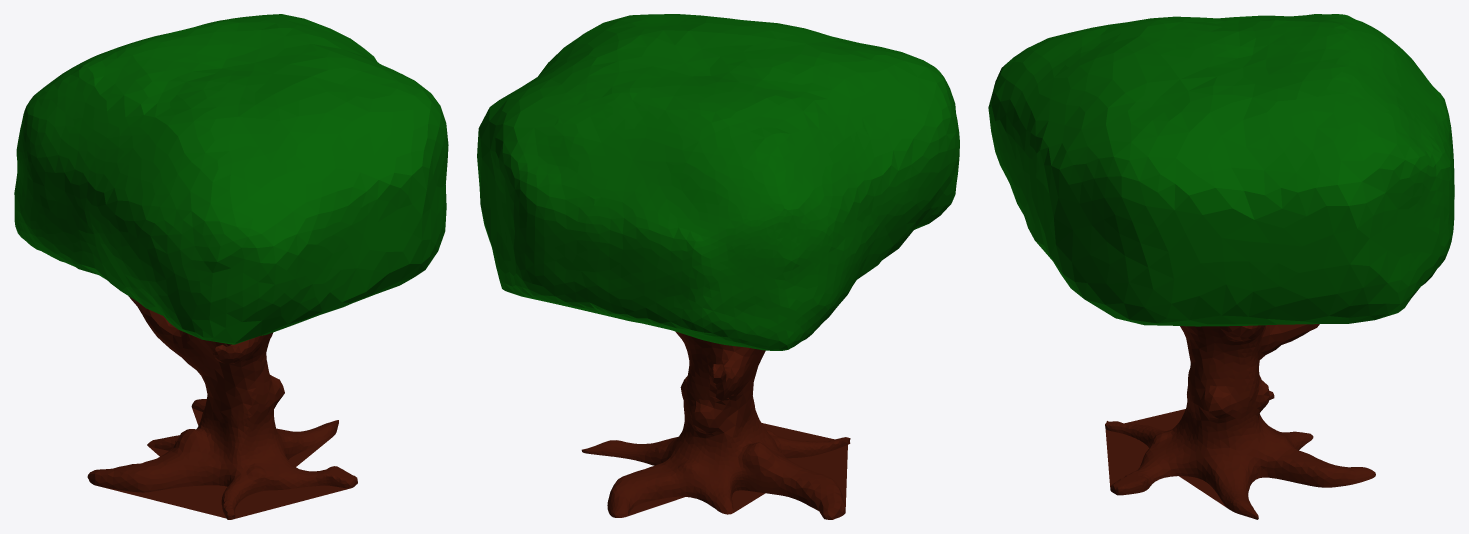
File: tree.obj
3 renders of one model, left to right at view 1: azimuth 30°, elevation 25°; view 2: azimuth 150°, elevation 25°; view 3: azimuth 270°, elevation 25°, orthographic. The views are drawn at different scales.
Visible parts, largest first — view 1: feuillage_Cube, tronc_Cube.001; view 2: feuillage_Cube, tronc_Cube.001; view 3: feuillage_Cube, tronc_Cube.001.
Boxes of the visible parts, x1,y1,x2,y2 form: feuillage_Cube: (14, 14, 448, 344); tronc_Cube.001: (87, 296, 357, 519); feuillage_Cube: (477, 14, 959, 350); tronc_Cube.001: (581, 331, 850, 519); feuillage_Cube: (988, 14, 1454, 326); tronc_Cube.001: (1105, 324, 1375, 519).
Bounding box in the file's own units: 16.06 × 17.96 × 18.49.
